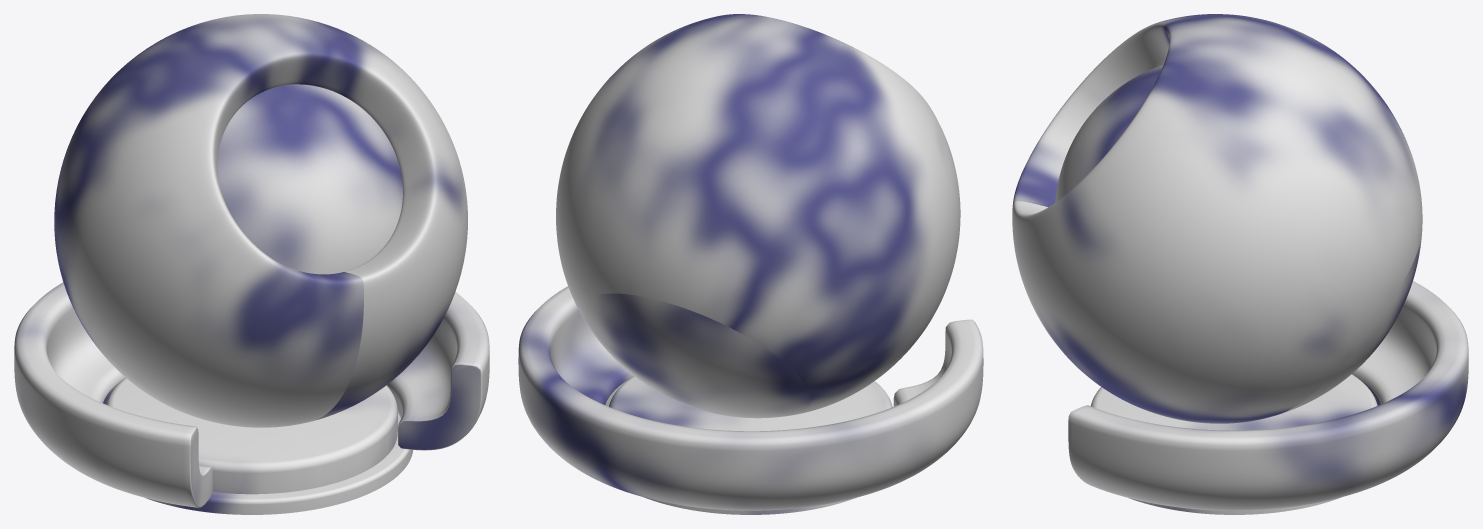
Rendered from standard_surface_marble_solid.mtlx.glb.
3 views of the same model, side by side, from view 1: azimuth 30°, elevation 25°; view 2: azimuth 150°, elevation 25°; view 3: azimuth 270°, elevation 25° (orthographic). The views are drawn at different scales.
Parts seen in each view (by area): view 1: Preview_Mesh, Calibration_Mesh; view 2: Preview_Mesh, Calibration_Mesh; view 3: Preview_Mesh, Calibration_Mesh.
Part boxes in pixels (<box>): Preview_Mesh: <box>14,14,489,507</box>; Calibration_Mesh: <box>106,84,413,514</box>; Preview_Mesh: <box>518,14,983,510</box>; Calibration_Mesh: <box>609,376,892,514</box>; Preview_Mesh: <box>1012,14,1468,510</box>; Calibration_Mesh: <box>1055,65,1377,514</box>.
Size of the model in its own units: 2.14 by 2.09 by 2.08.
Materials: 1 (1 with a texture image).
